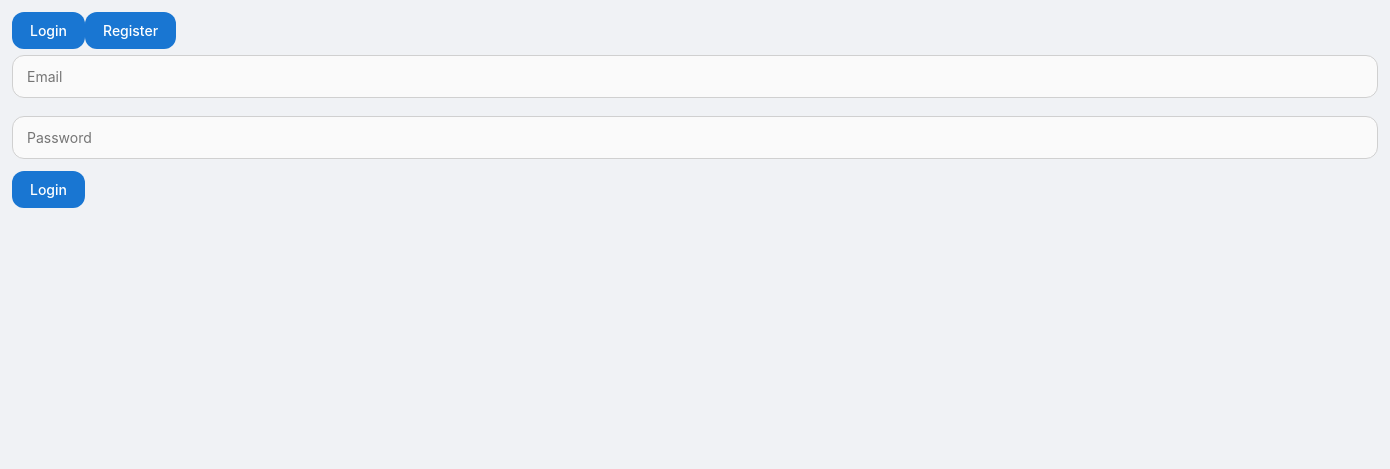
AuthForm component › 注册模式下默认 role 为 client，且可以在 UI 中切换
Click the button "Register" at (131, 30), box left=85, top=12, right=176, bottom=49
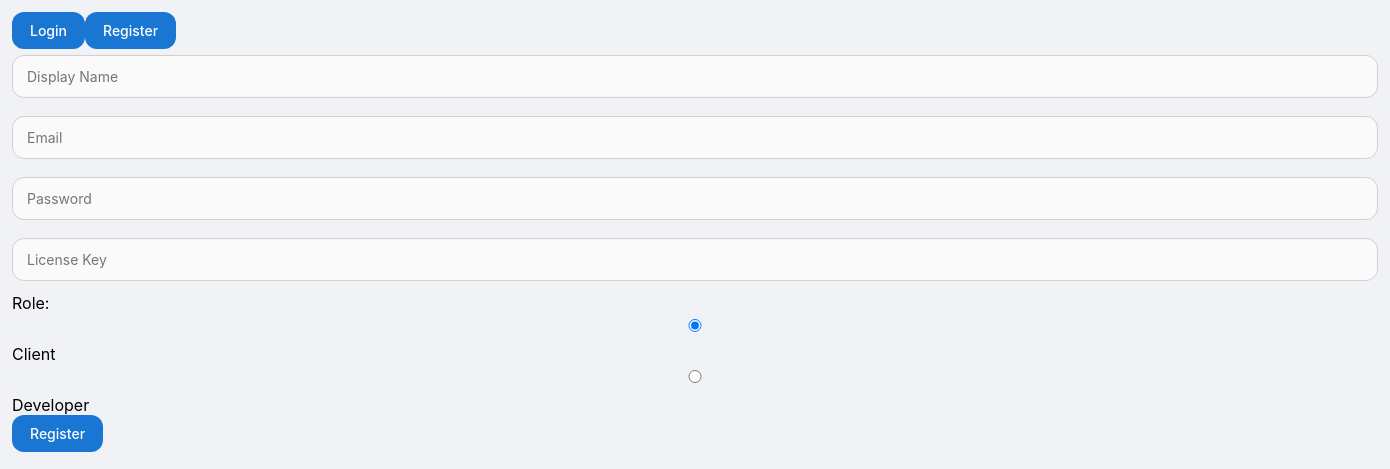
Result: the radio button labelled "Client" is checked at left=12, top=319, right=1378, bottom=332
Result: the radio button labelled "Developer" is not checked
// 切换到 developer
Click the radio button labelled "Developer" at (695, 376), box left=12, top=370, right=1378, bottom=383
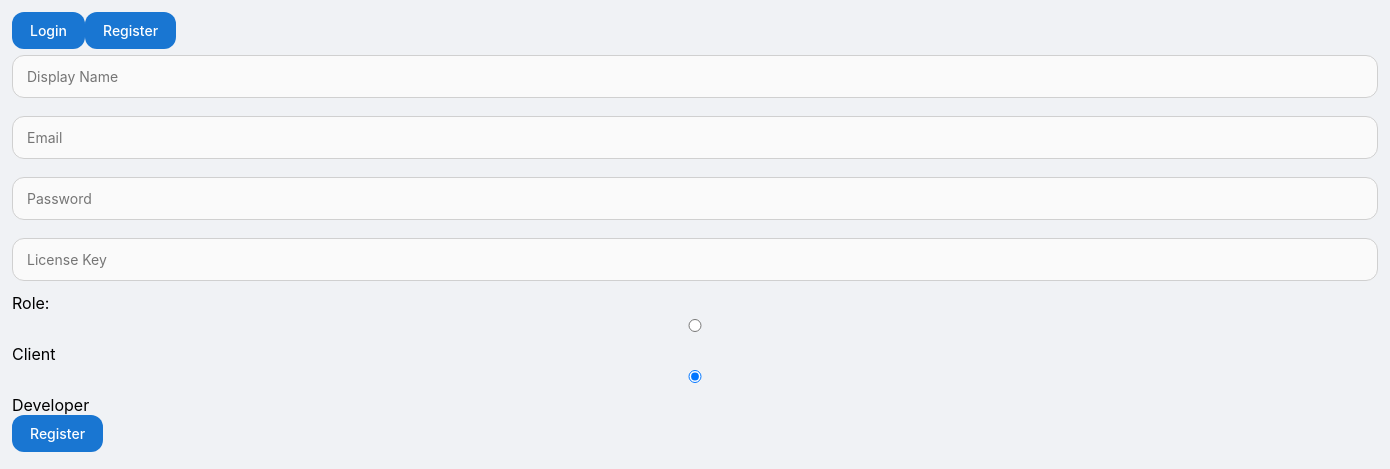
Result: the radio button labelled "Developer" is checked at left=12, top=370, right=1378, bottom=383
Result: the radio button labelled "Client" is not checked at left=12, top=319, right=1378, bottom=332
